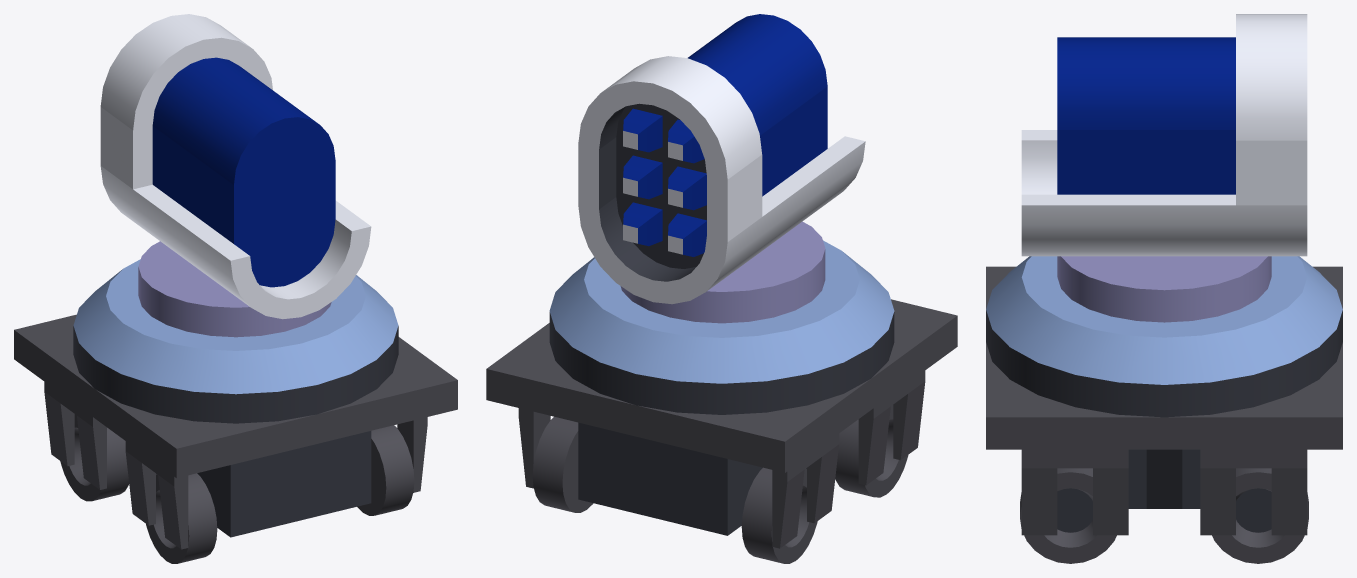
Rendered from turret-incendiary.glb.
3 renders of one model, left to right at view 1: azimuth 30°, elevation 25°; view 2: azimuth 150°, elevation 25°; view 3: azimuth 270°, elevation 25°, orthographic. The views are drawn at different scales.
Parts seen in each view (by area): view 1: weapon_turretLargeRounded%, bogie_clamp, tank_turretRing, wheel_small (×2); view 2: weapon_turretLargeRounded%, bogie_clamp, tank_turretRing, wheel_small (×2); view 3: weapon_turretLargeRounded%, tank_turretRing, bogie_clamp, wheel_small (×2).
Part boxes in pixels (x1,y1,x2,y2): weapon_turretLargeRounded%: (100,14,371,319); bogie_clamp: (14,314,457,549); tank_turretRing: (73,241,398,423); wheel_small (×2): (60,414,414,563); weapon_turretLargeRounded%: (578,14,865,304); bogie_clamp: (486,299,957,548); tank_turretRing: (549,221,894,414); wheel_small (×2): (532,405,908,563); weapon_turretLargeRounded%: (1021,14,1307,256); tank_turretRing: (986,256,1342,417); bogie_clamp: (986,266,1342,535); wheel_small (×2): (1020,468,1308,563).
Bounding box in the file's own units: 0.38 × 0.566 × 0.38.
